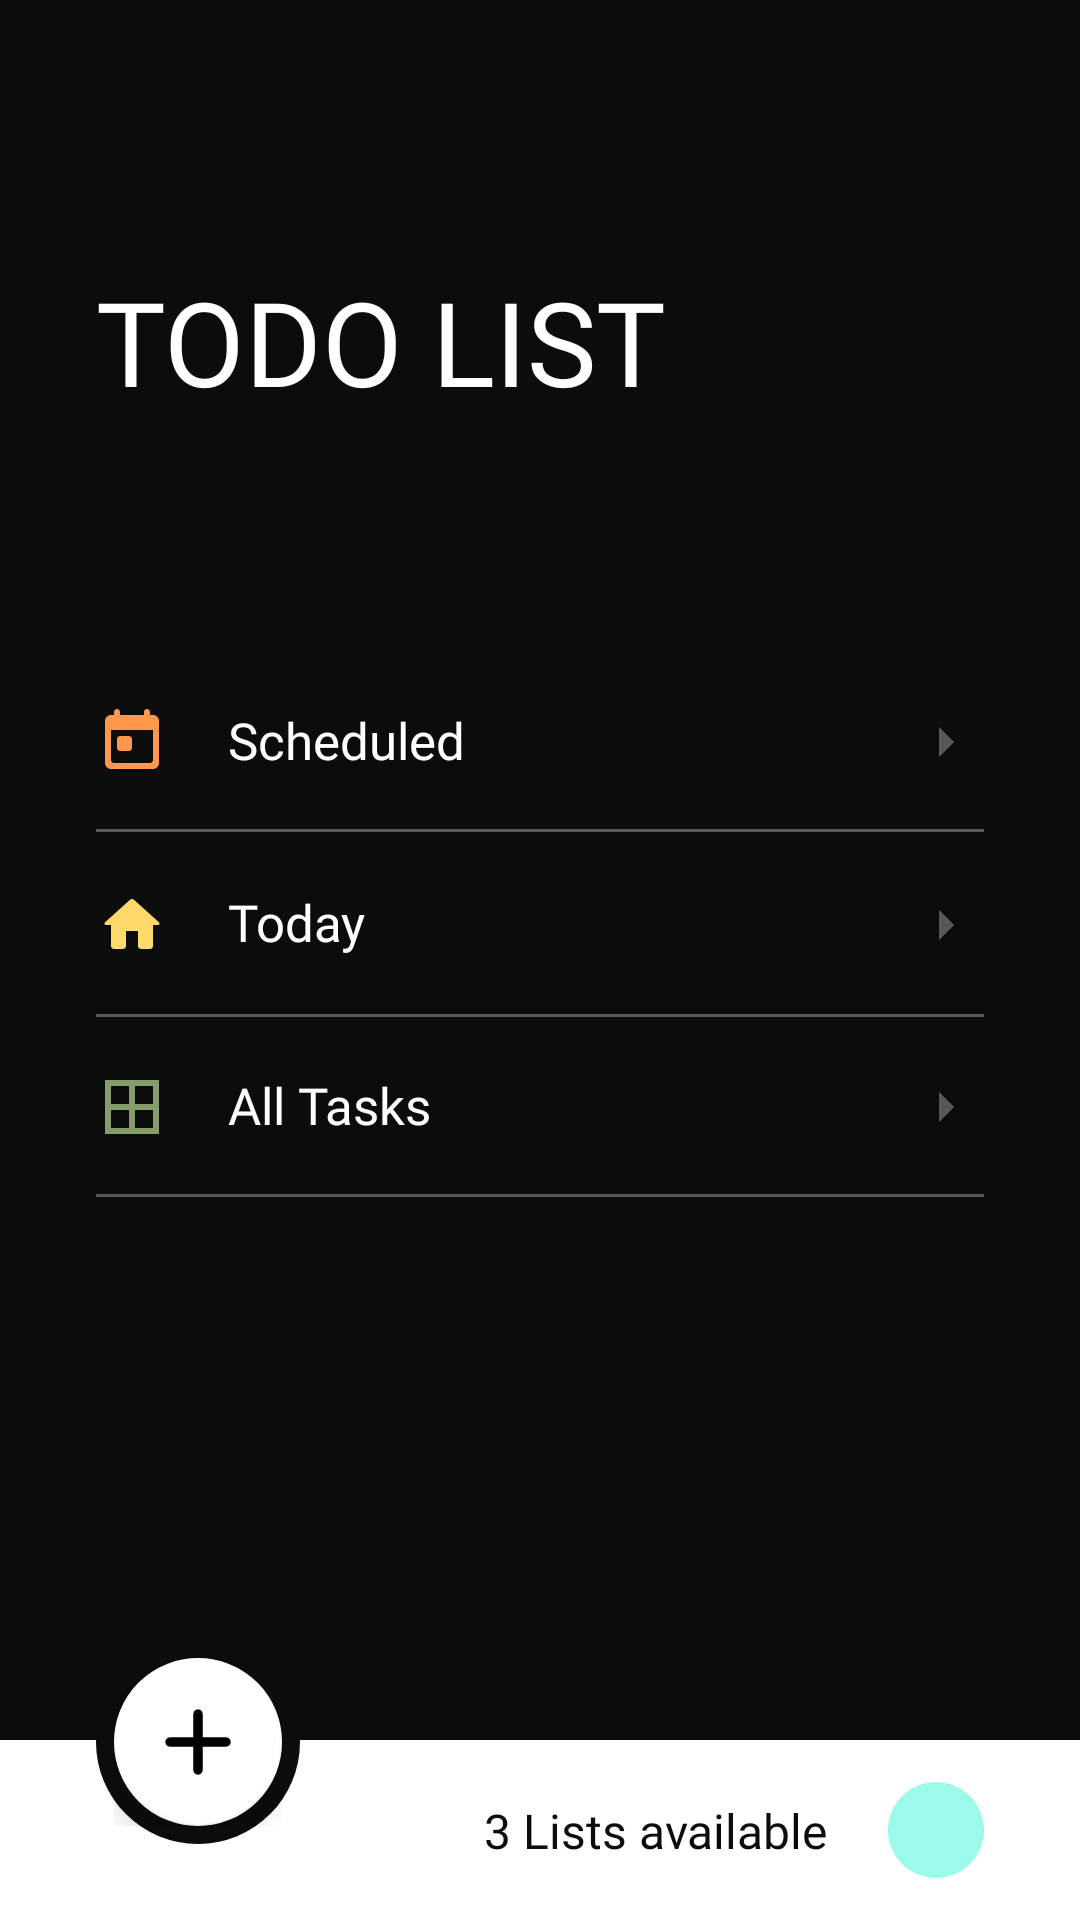

Icon click points for this 1080px x 1920px phone screenshot, format (x=x, y=y):
home: (x=132, y=924)
